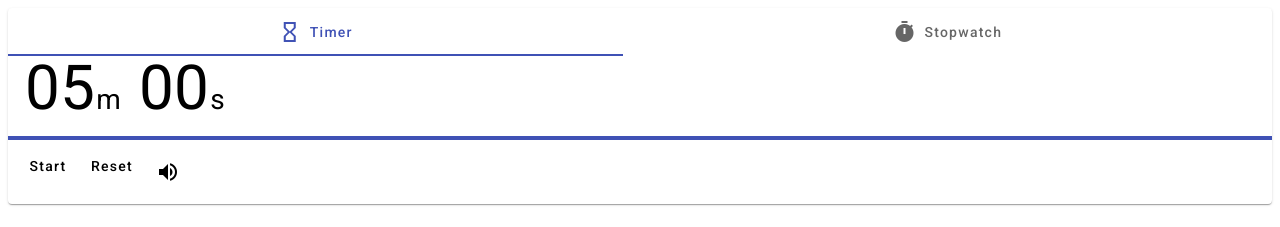
Scenario: Stopwatch page working › Able to visit Stopwatch page via tab from timer.
Click the text "Stopwatch" at (948, 32), box left=893, top=20, right=1003, bottom=44
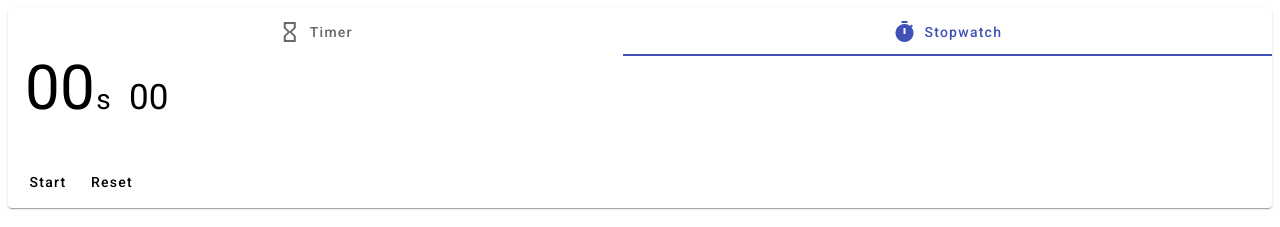
Expected: the 1st text with class "time-display-digit" is shown, left=25, top=51, right=96, bottom=124
Result: the text with class "time-display-small-digit" is shown at left=129, top=77, right=170, bottom=118
